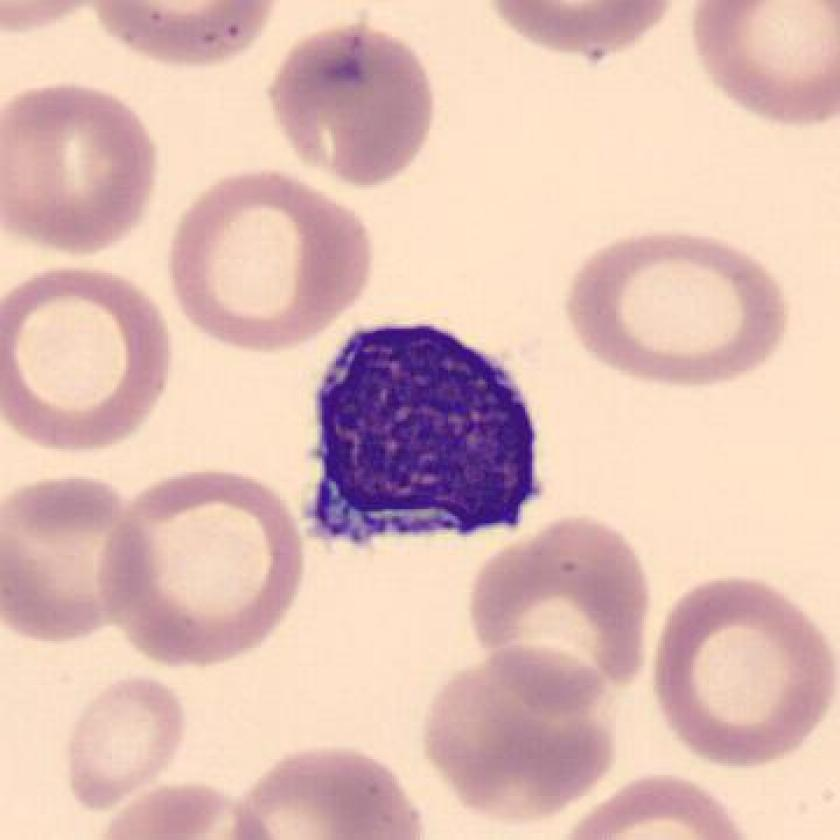lymphocyte: (283, 306, 554, 568)
